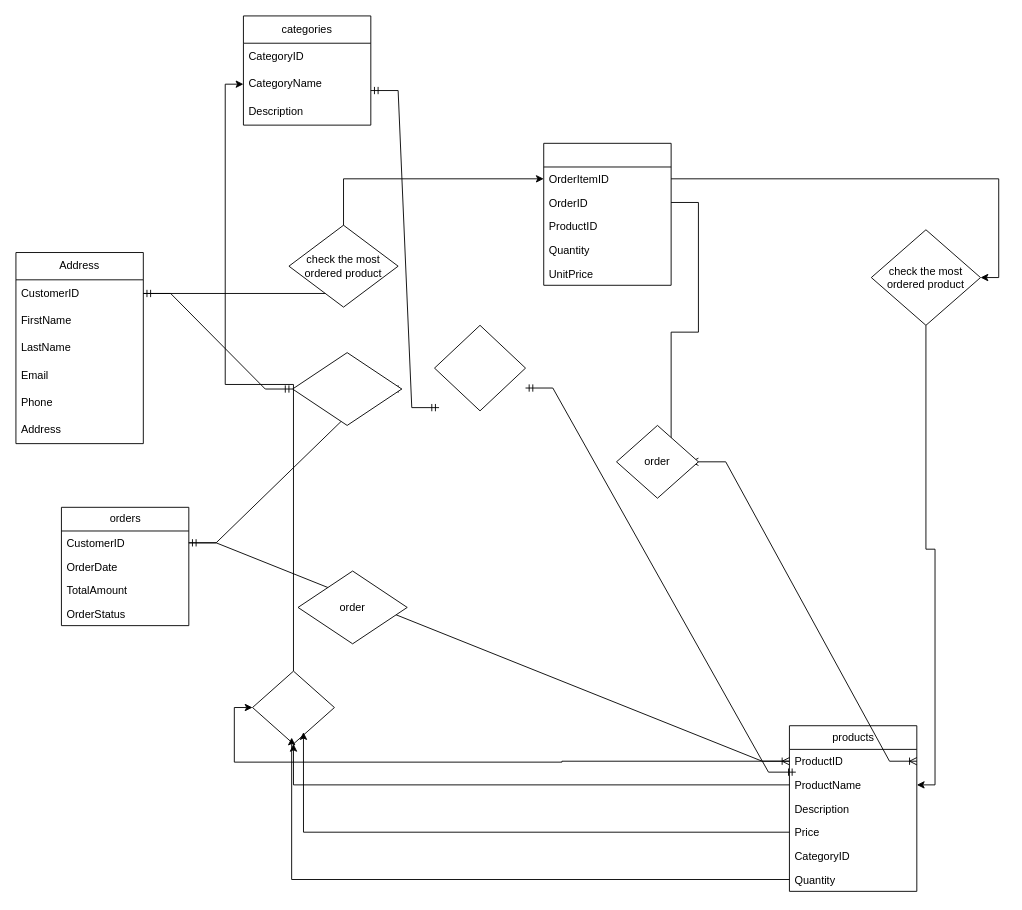
This 1022x910 diagram has some shape labels left out. Each missing label, with the box of its shape:
customer's address: (292, 352, 402, 425)
find product's category: (434, 324, 526, 411)
new product: (252, 670, 334, 744)
orderitems: (543, 142, 671, 285)
